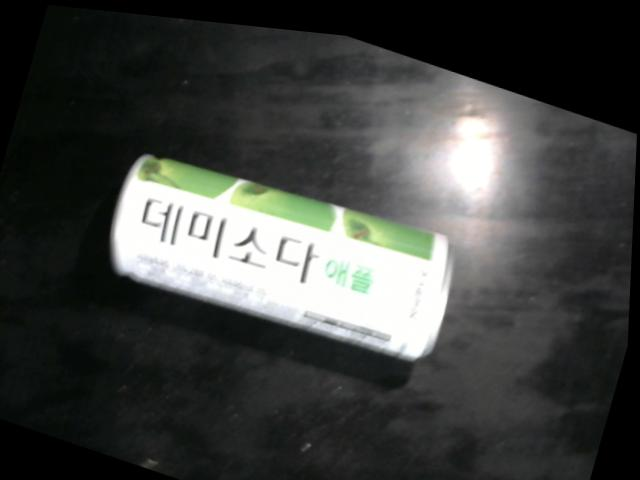can: (112, 147, 460, 355)
